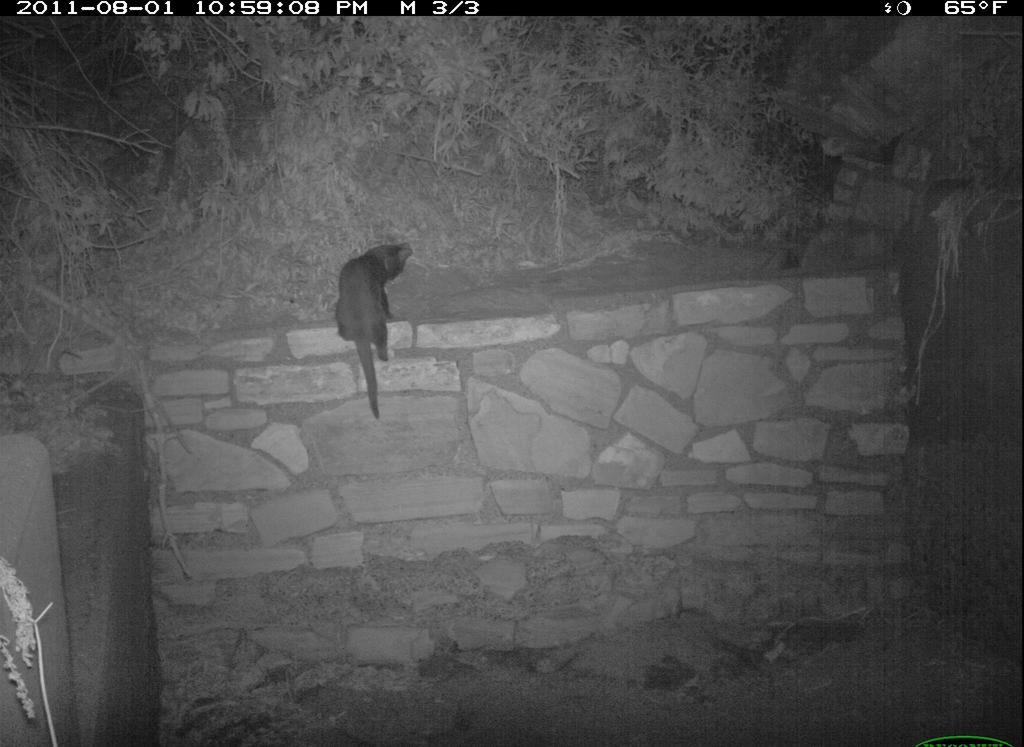cat: (326, 230, 442, 442)
